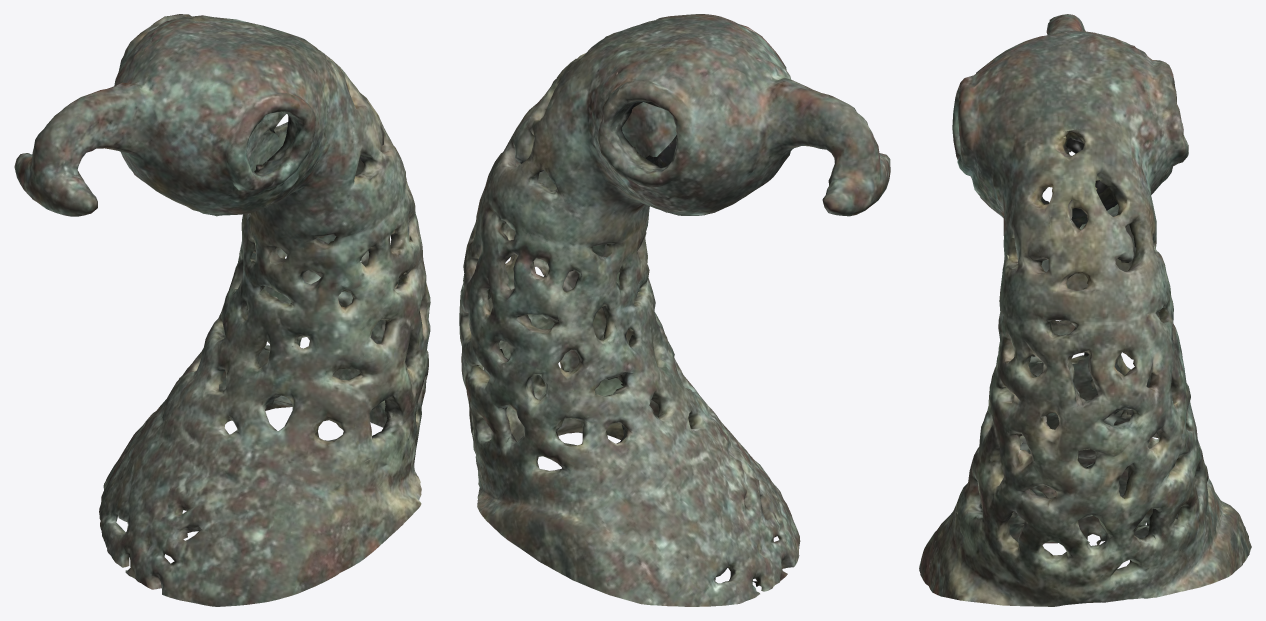
The model's file is rauchergefass_in_vogelgestalt_1.glb.
3 views of the same model, side by side, from view 1: azimuth 30°, elevation 25°; view 2: azimuth 150°, elevation 25°; view 3: azimuth 270°, elevation 25° (orthographic).
Parts seen in each view (by area): view 1: Mesh_0.011; view 2: Mesh_0.011; view 3: Mesh_0.011.
Part boxes in pixels (<box>): Mesh_0.011: <box>14,14,430,606</box>; Mesh_0.011: <box>459,14,890,606</box>; Mesh_0.011: <box>919,14,1251,606</box>.
Bounding box in the file's own units: 0.968 × 1.25 × 0.7011.
1 material, 1 textured.
